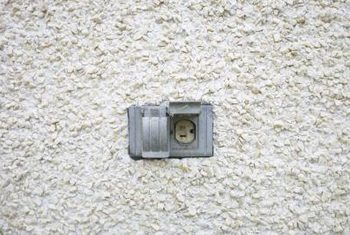outlet: (177, 124, 195, 139)
